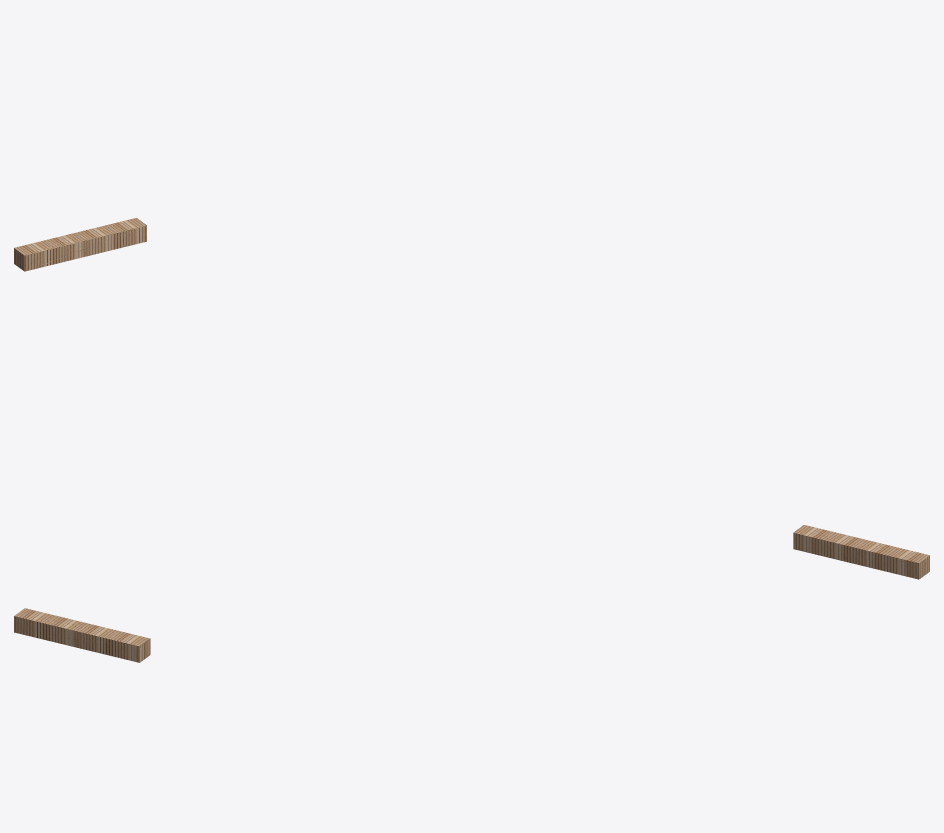
Rendered from Chair03.glb.
3 renders of one model, top to bottom at view 1: azimuth 30°, elevation 25°; view 2: azimuth 150°, elevation 25°; view 3: azimuth 330°, elevation 25°, orthographic. The views are drawn at different scales.
Visible parts, largest first — view 1: empty_114; view 2: empty_114; view 3: empty_114.
Part boxes in pixels (left/top/right/bottom): empty_114: left=14, top=218, right=146, bottom=271; empty_114: left=793, top=525, right=929, bottom=579; empty_114: left=14, top=608, right=150, bottom=662.
Bounding box in the file's own units: 29.34 × 1.3 × 0.9126.
Materials: 5 (2 with a texture image).
